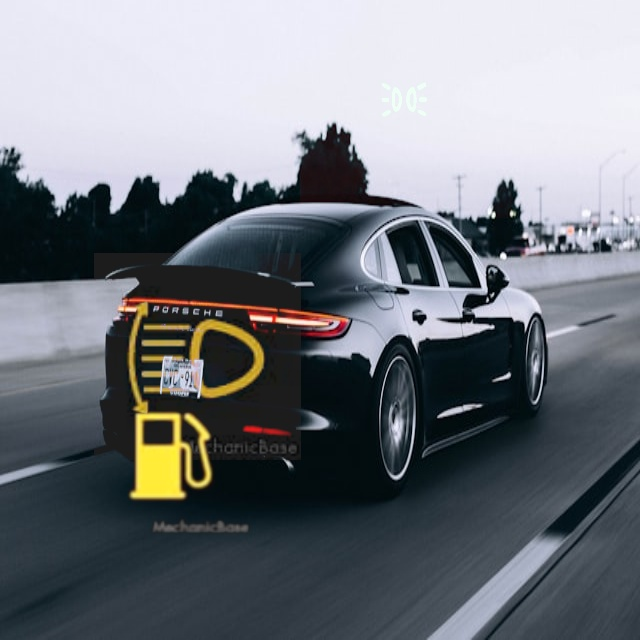symbol: (300, 6, 512, 218), (94, 253, 301, 460), (87, 373, 255, 541)
